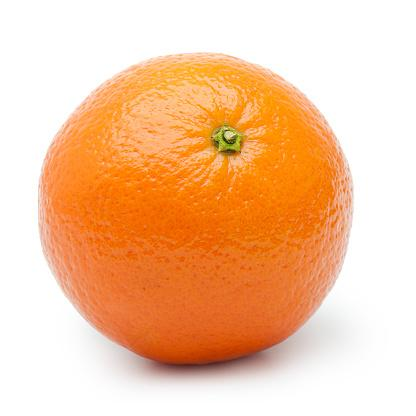orange: (38, 51, 370, 380)
